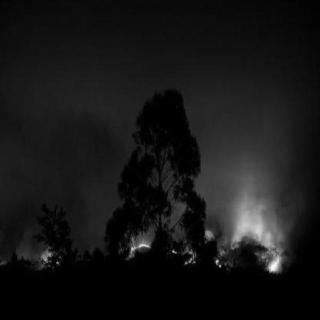Fire: (232, 180, 286, 271)
